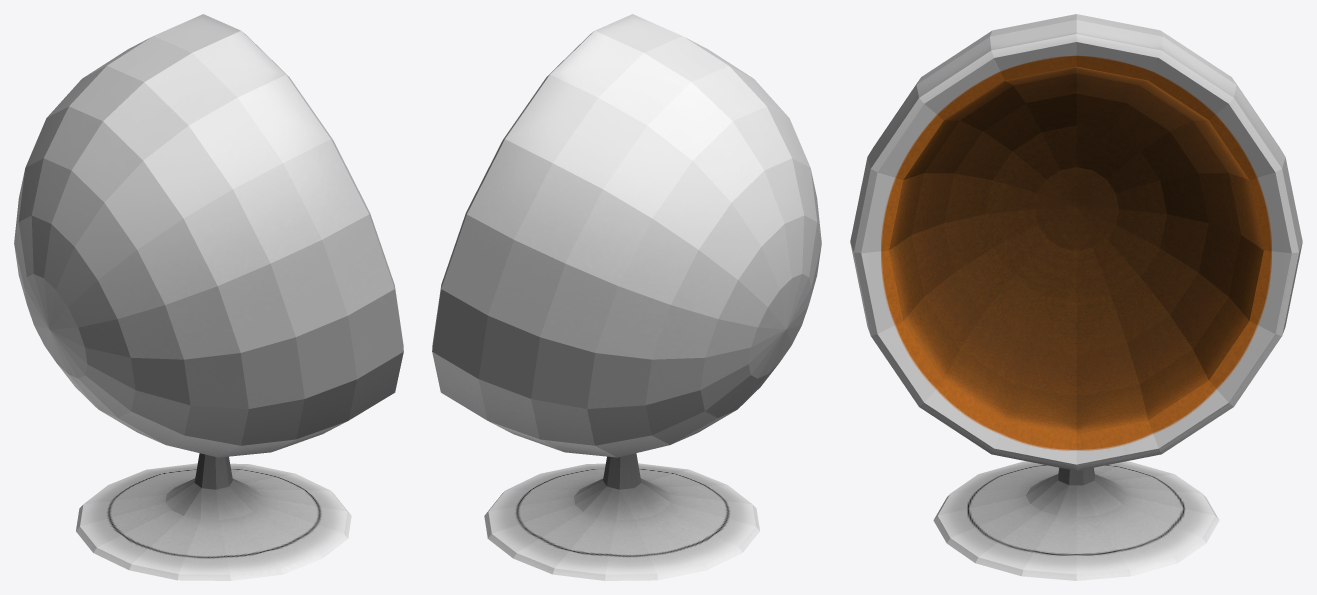
File: Chair2.fbx
3 renders of one model, left to right at view 1: azimuth 30°, elevation 25°; view 2: azimuth 150°, elevation 25°; view 3: azimuth 270°, elevation 25°, orthographic. The views are drawn at different scales.
Parts seen in each view (by area): view 1: Empty_Mesh; view 2: Empty_Mesh; view 3: Empty_Mesh.
Part boxes in pixels (bbox=[...]): Empty_Mesh: bbox=[14, 14, 403, 580]; Empty_Mesh: bbox=[432, 14, 821, 580]; Empty_Mesh: bbox=[850, 14, 1302, 580].
Bounding box in the file's own units: 90.63 × 145 × 119.
